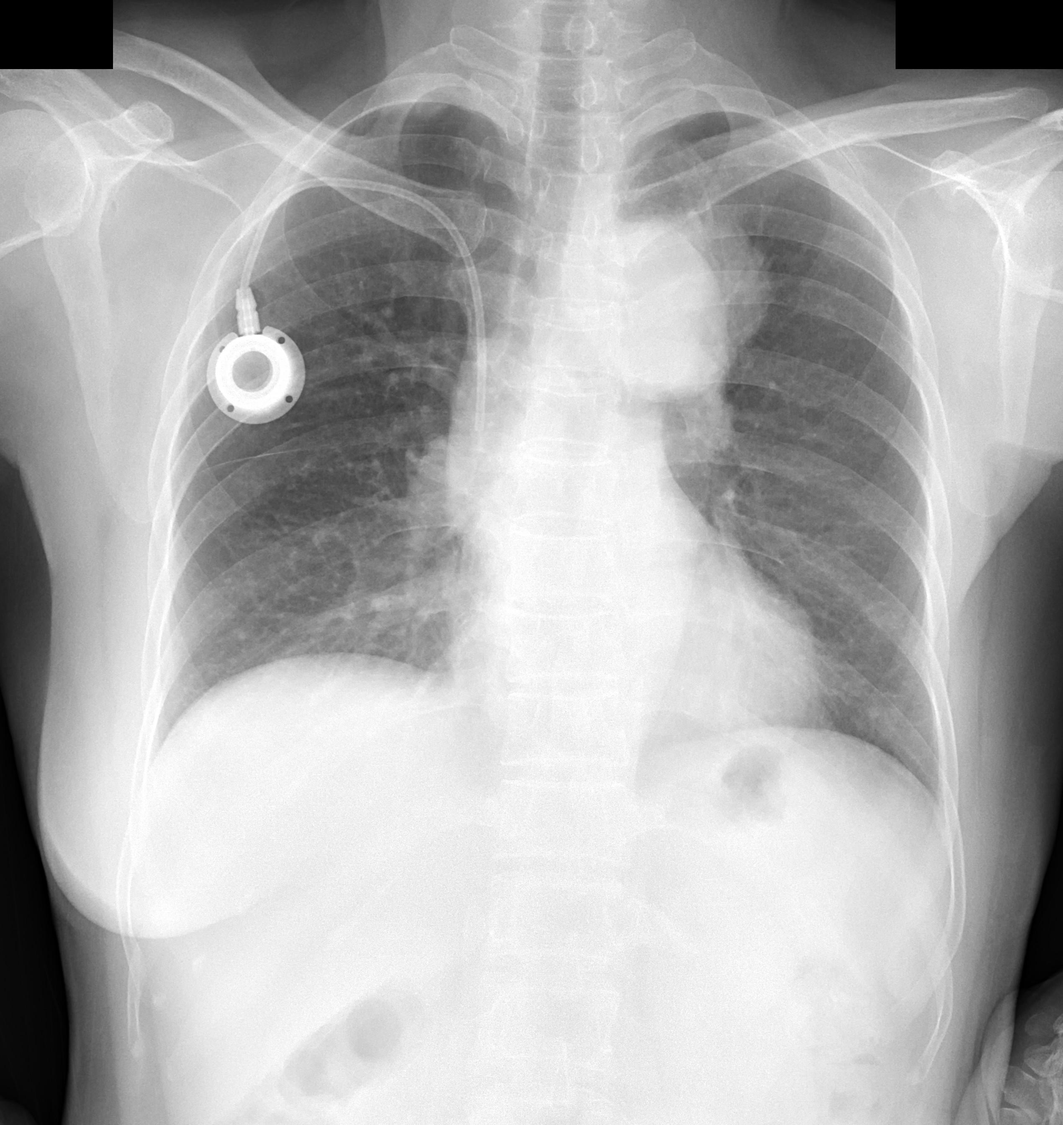Aortic enlargement: (588, 213, 777, 392)
